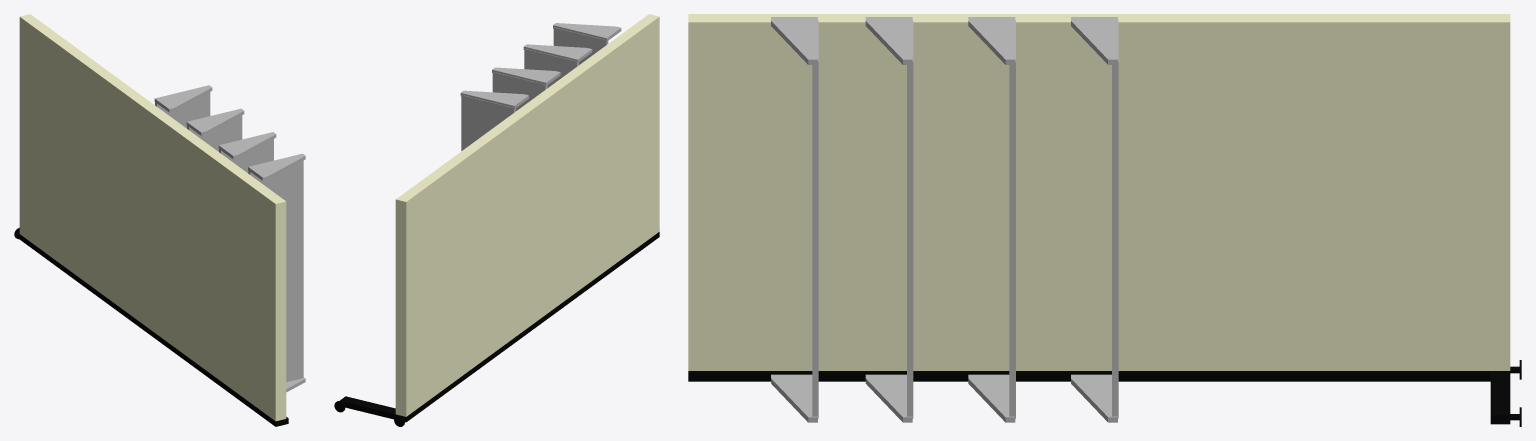
Rendered from nil_link_mesh.dae.
The picture shows the model from 3 angles, left to right: view 1: azimuth 30°, elevation 25°; view 2: azimuth 150°, elevation 25°; view 3: azimuth 270°, elevation 25°; orthographic projection. The views are drawn at different scales.
Parts seen in each view (by area): view 1: nil_link (×6); view 2: nil_link (×7); view 3: nil_link (×7).
Boxes of the visible parts, left/top/right/bottom form: nil_link (×6): left=19, top=14, right=305, bottom=426; nil_link (×7): left=340, top=14, right=659, bottom=422; nil_link (×7): left=688, top=14, right=1510, bottom=424.
Size of the model in its own units: 0.4 by 1.24 by 2.54.
